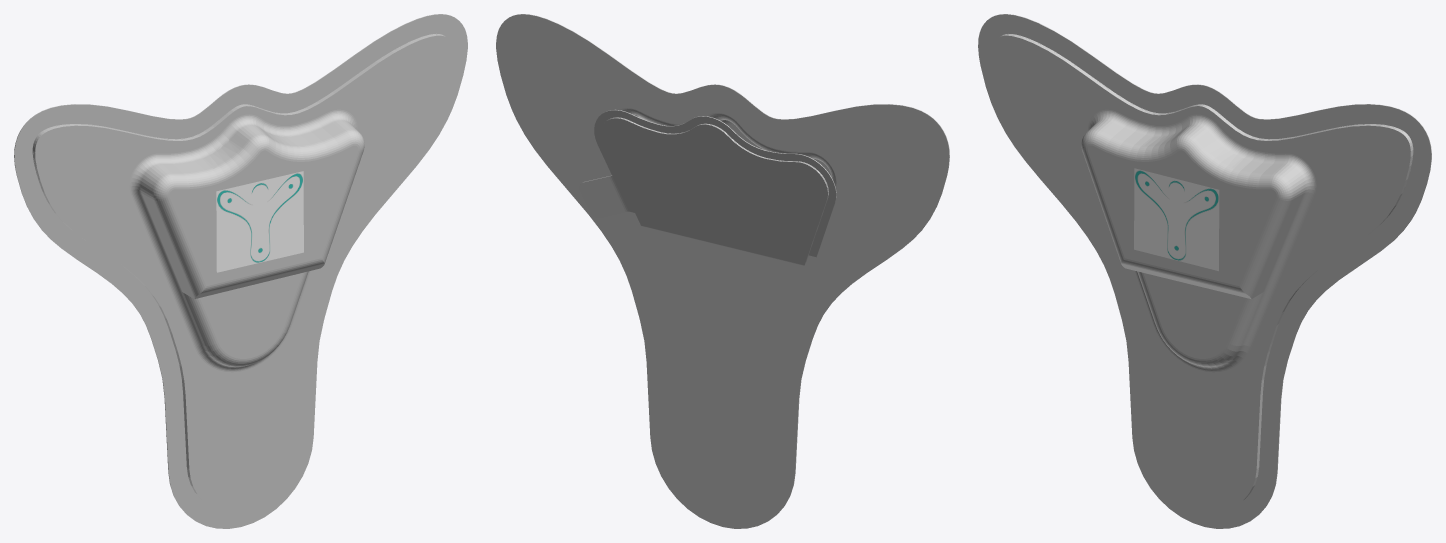
Rendered from patchV2.dae.
The picture shows the model from 3 angles, left to right: view 1: azimuth 30°, elevation 25°; view 2: azimuth 150°, elevation 25°; view 3: azimuth 330°, elevation 25°; orthographic projection.
Parts seen in each view (by area): view 1: VS-100-E3; view 2: VS-100-E3; view 3: VS-100-E3.
Boxes of the visible parts, x1,y1,x2,y2 form: VS-100-E3: (14,14,467,528); VS-100-E3: (496,14,949,528); VS-100-E3: (978,14,1431,528).
Size of the model in its own units: 1.25 by 0.1779 by 1.23.
Materials: 2 (1 with a texture image).
